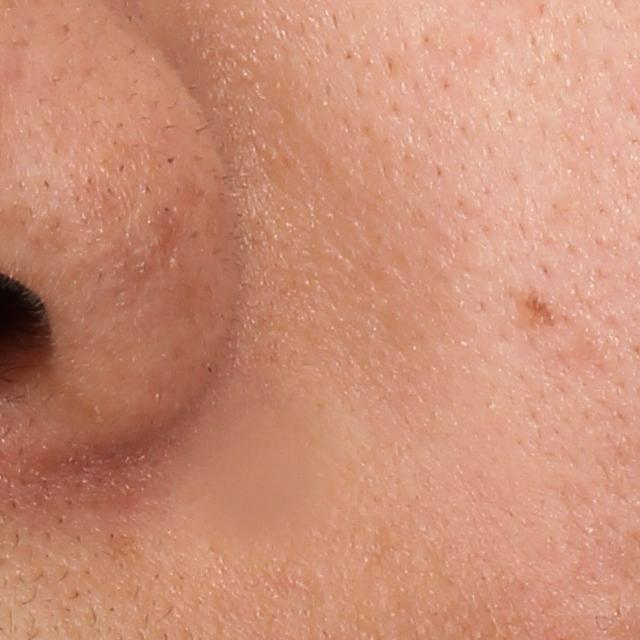nevus: (509, 289, 553, 332)
